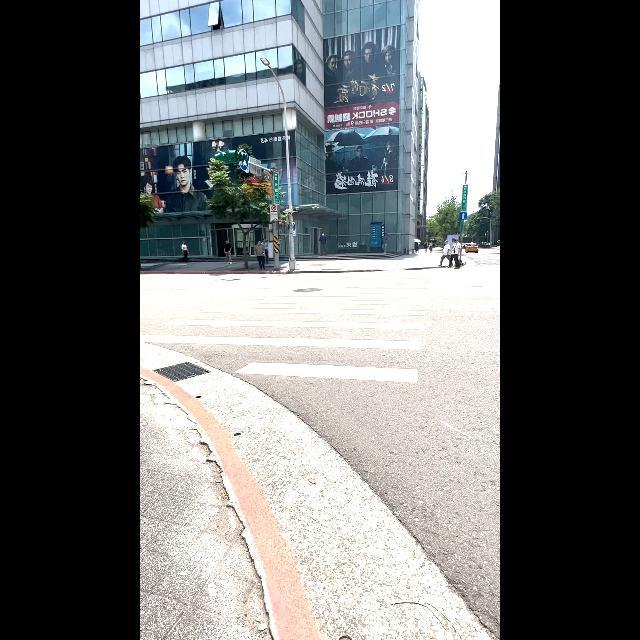sidewalk: (140, 268, 427, 387)
